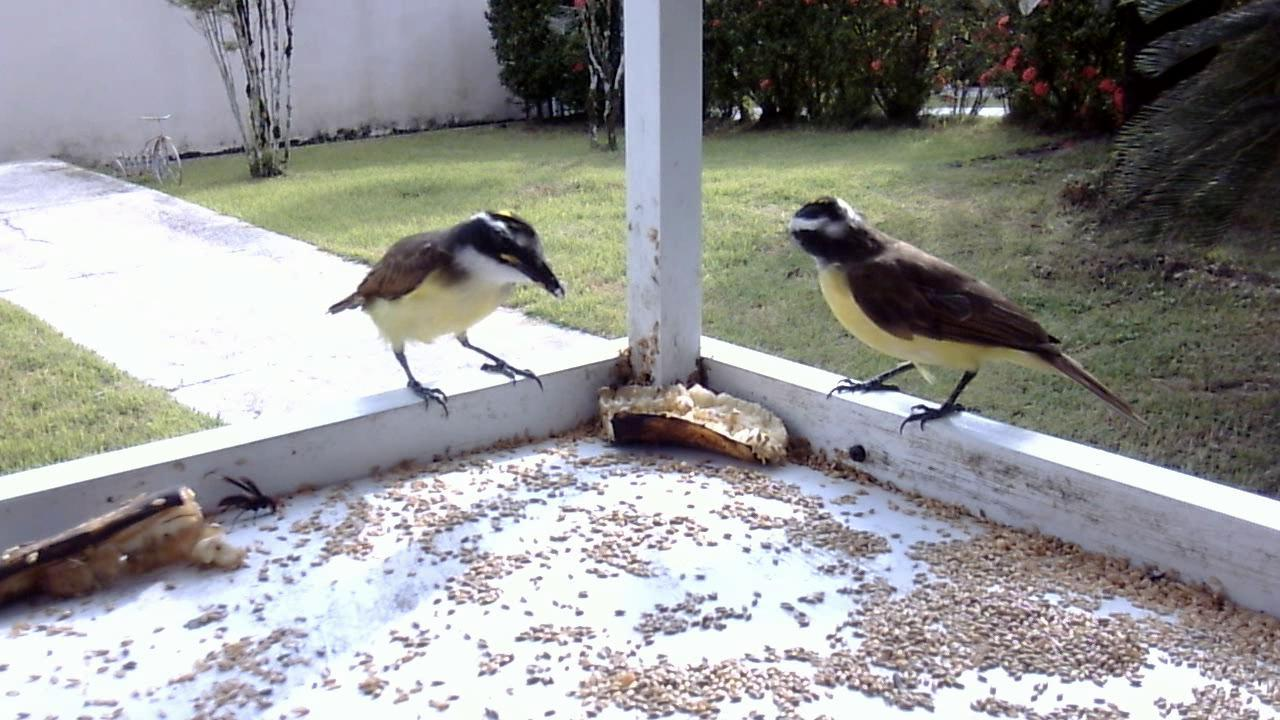bem_te_vi: (777, 190, 1153, 453), (310, 198, 565, 430)
